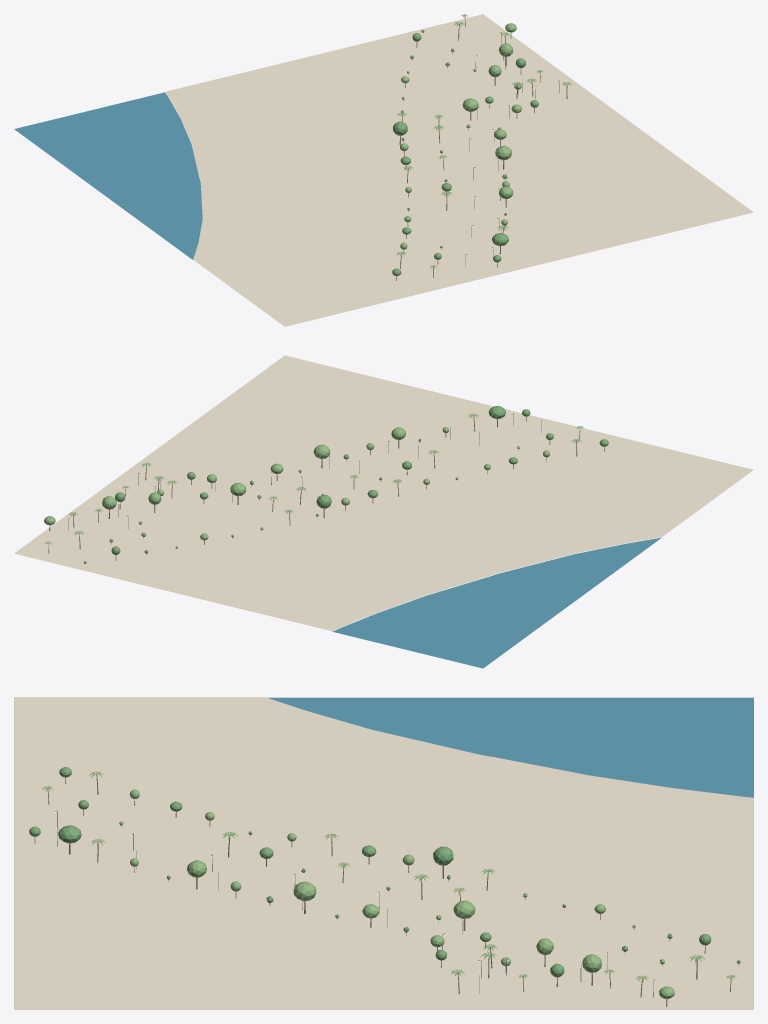
File: nature_3_6.glb
3 views of the same model, one above another, from view 1: azimuth 30°, elevation 25°; view 2: azimuth 150°, elevation 25°; view 3: azimuth 270°, elevation 25° (orthographic). The views are drawn at different scales.
Parts seen in each view (by area): view 1: ground, water, foliage_b, foliage_a, trunk; view 2: ground, water, foliage_b, foliage_a, trunk; view 3: ground, water, foliage_b, foliage_a, trunk, palm_leaf.
Part boxes in pixels (x1,y1,x2,y2): ground: (165, 14, 753, 326); water: (14, 92, 202, 259); foliage_b: (400, 23, 521, 249); foliage_a: (392, 30, 538, 276); trunk: (396, 16, 567, 280); ground: (14, 355, 753, 630); water: (332, 537, 661, 668); foliage_b: (44, 427, 549, 548); foliage_a: (83, 406, 608, 563); trunk: (48, 417, 604, 560); ground: (14, 697, 753, 1009); water: (267, 697, 753, 797); foliage_b: (119, 789, 674, 998); foliage_a: (29, 767, 740, 977); trunk: (34, 777, 738, 1006); palm_leaf: (42, 771, 736, 982).
Size of the model in its own units: 251 by 12.01 by 250.
